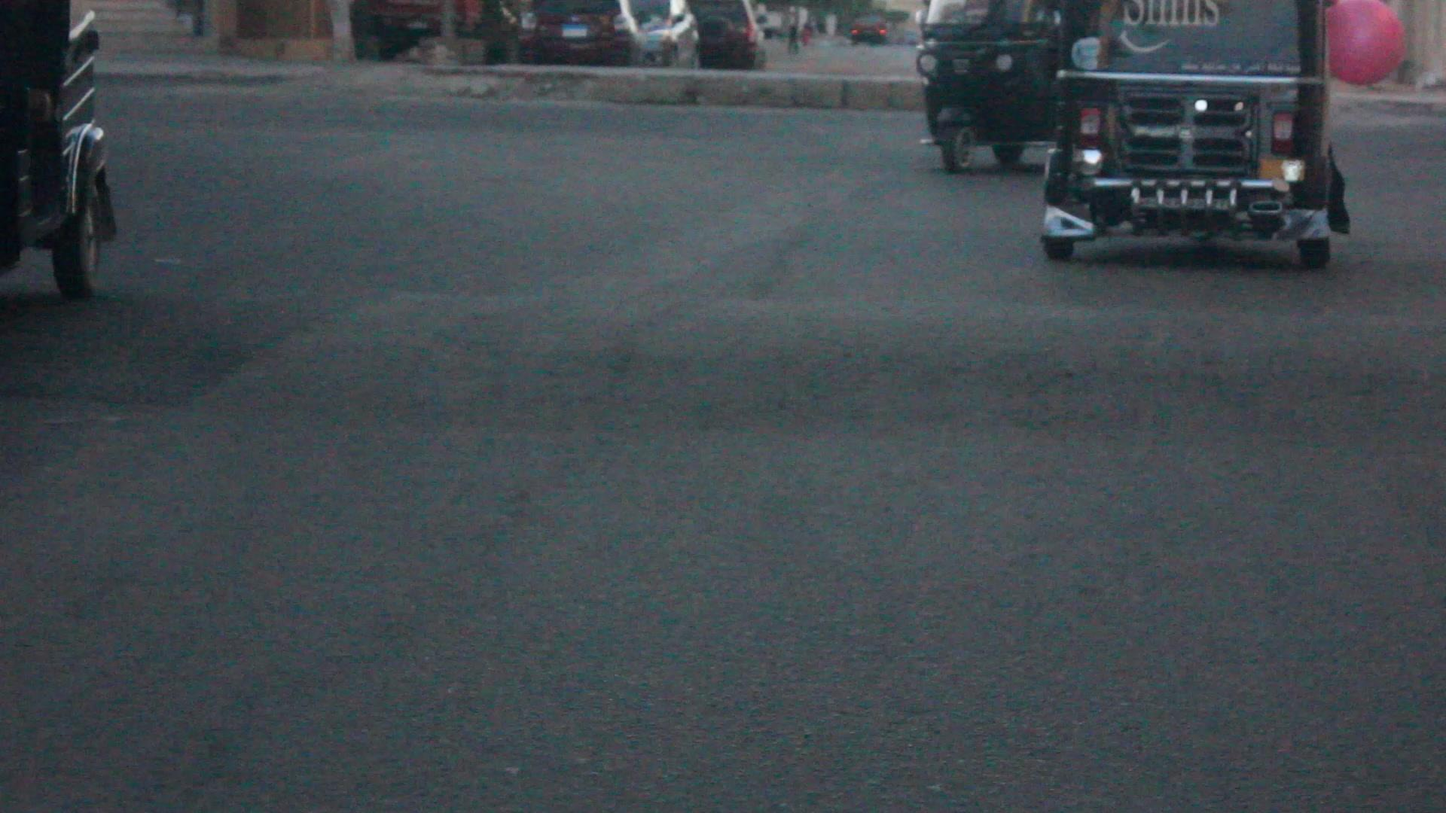Bump: (15, 292, 1446, 465)
